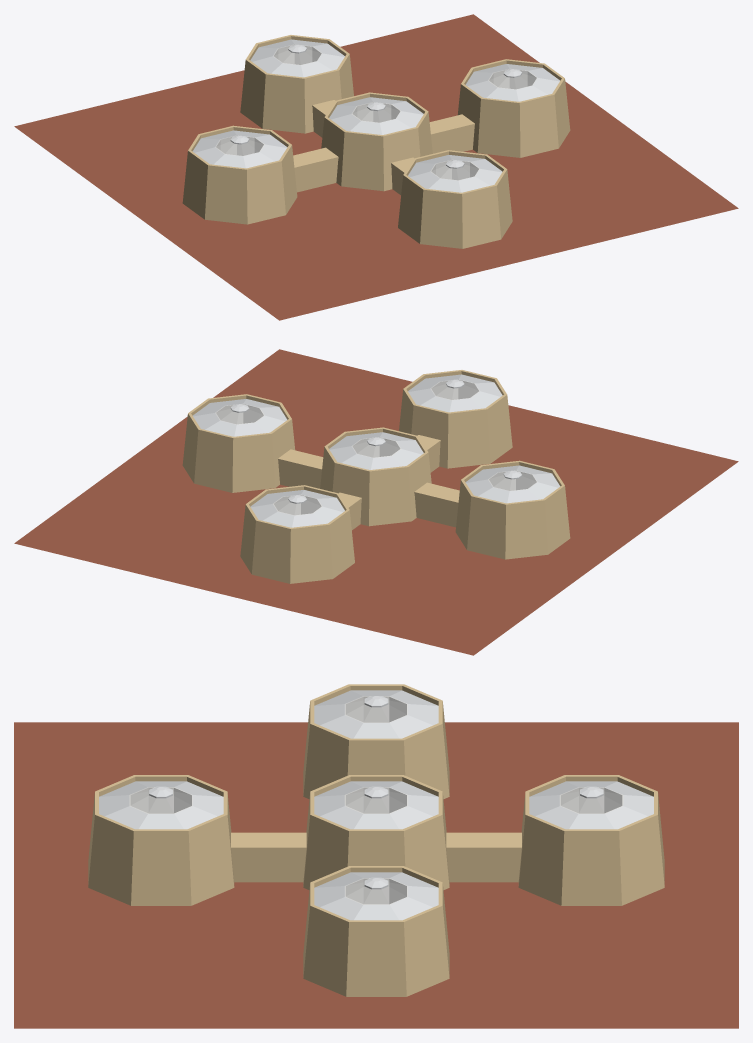
The model's file is sala-export.glb.
The picture shows the model from 3 angles, top to bottom: view 1: azimuth 30°, elevation 25°; view 2: azimuth 150°, elevation 25°; view 3: azimuth 270°, elevation 25°; orthographic projection. The views are drawn at different scales.
Visible parts, largest first — view 1: Plaza_ladrillo, C2_Muros_exteriores, C5_Muros_exteriores, C4_Muros_exteriores, C3_Muros_exteriores, C1_Muros_exteriores, C5_Cubierta_facetada, C3_Cubierta_facetada, C2_Cubierta_facetada, C1_Cubierta_facetada, C4_Cubierta_facetada, MURO_pasillo_oeste_izq_ext (+13 smaller); view 2: Plaza_ladrillo, C3_Muros_exteriores, C5_Muros_exteriores, C4_Muros_exteriores, C2_Muros_exteriores, C1_Muros_exteriores, C2_Cubierta_facetada, C5_Cubierta_facetada, C1_Cubierta_facetada, C4_Cubierta_facetada, C3_Cubierta_facetada, MURO_pasillo_oeste_der_ext (+13 smaller); view 3: Plaza_ladrillo, C4_Muros_exteriores, C2_Muros_exteriores, C3_Muros_exteriores, C5_Muros_exteriores, C1_Muros_exteriores, C4_Cubierta_facetada, C5_Cubierta_facetada, C1_Cubierta_facetada, C3_Cubierta_facetada, C2_Cubierta_facetada, MURO_pasillo_norte_der_ext (+13 smaller).
Part boxes in pixels (x1=…): Plaza_ladrillo: x1=14, y1=14, x2=738, y2=320; C2_Muros_exteriores: x1=398, y1=150, x2=512, y2=248; C5_Muros_exteriores: x1=182, y1=125, x2=297, y2=224; C4_Muros_exteriores: x1=457, y1=59, x2=570, y2=157; C3_Muros_exteriores: x1=240, y1=35, x2=353, y2=133; C1_Muros_exteriores: x1=321, y1=92, x2=432, y2=191; C5_Cubierta_facetada: x1=192, y1=130, x2=287, y2=168; C3_Cubierta_facetada: x1=250, y1=39, x2=344, y2=77; C2_Cubierta_facetada: x1=408, y1=155, x2=502, y2=192; C1_Cubierta_facetada: x1=329, y1=97, x2=423, y2=134; C4_Cubierta_facetada: x1=465, y1=64, x2=559, y2=101; MURO_pasillo_oeste_izq_ext: x1=294, y1=156, x2=338, y2=192; Plaza_ladrillo: x1=14, y1=349, x2=738, y2=655; C3_Muros_exteriores: x1=240, y1=485, x2=354, y2=583; C5_Muros_exteriores: x1=455, y1=460, x2=570, y2=559; C4_Muros_exteriores: x1=182, y1=394, x2=295, y2=492; C2_Muros_exteriores: x1=399, y1=370, x2=512, y2=468; C1_Muros_exteriores: x1=320, y1=427, x2=431, y2=526; C2_Cubierta_facetada: x1=408, y1=374, x2=502, y2=412; C5_Cubierta_facetada: x1=465, y1=465, x2=560, y2=503; C1_Cubierta_facetada: x1=329, y1=432, x2=423, y2=469; C4_Cubierta_facetada: x1=193, y1=399, x2=287, y2=436; C3_Cubierta_facetada: x1=250, y1=490, x2=344, y2=527; MURO_pasillo_oeste_der_ext: x1=414, y1=491, x2=458, y2=527; Plaza_ladrillo: x1=14, y1=722, x2=738, y2=1028; C4_Muros_exteriores: x1=303, y1=866, x2=449, y2=996; C2_Muros_exteriores: x1=88, y1=775, x2=234, y2=905; C3_Muros_exteriores: x1=518, y1=775, x2=664, y2=905; C5_Muros_exteriores: x1=303, y1=684, x2=449, y2=798; C1_Muros_exteriores: x1=303, y1=775, x2=449, y2=889; C4_Cubierta_facetada: x1=314, y1=872, x2=438, y2=920; C5_Cubierta_facetada: x1=314, y1=690, x2=438, y2=738; C1_Cubierta_facetada: x1=314, y1=781, x2=438, y2=829; C3_Cubierta_facetada: x1=529, y1=781, x2=653, y2=829; C2_Cubierta_facetada: x1=99, y1=781, x2=223, y2=829; MURO_pasillo_norte_der_ext: x1=446, y1=846, x2=521, y2=882.
Size of the model in its own units: 64 by 8.46 by 64.
